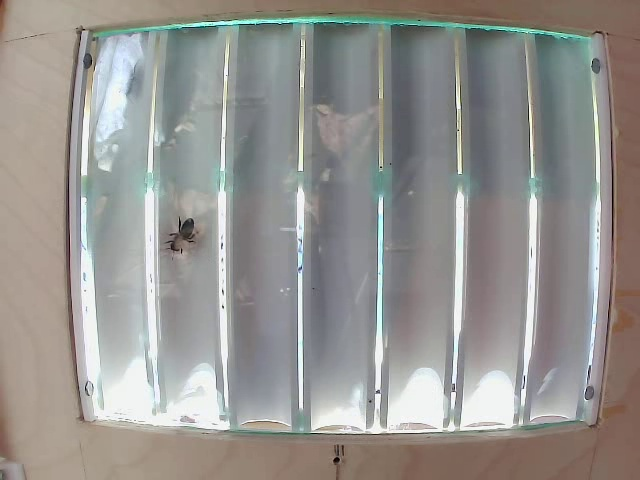bee: (163, 208, 207, 253)
